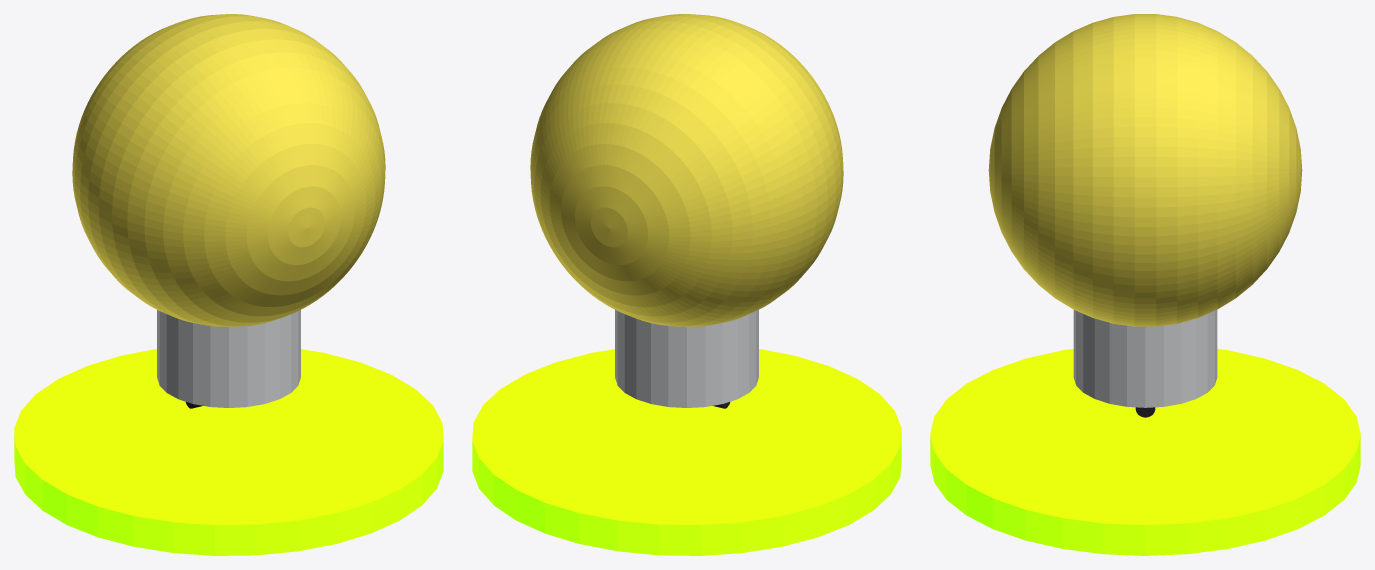
File: tech_light_bulb.glb
The picture shows the model from 3 angles, left to right: view 1: azimuth 30°, elevation 25°; view 2: azimuth 150°, elevation 25°; view 3: azimuth 270°, elevation 25°; orthographic projection.
Visible parts, largest first — view 1: 08_20_Popular_Tech_Light_Bulb_part_01, 08_20_Popular_Tech_Light_Bulb_ROOT_base, 08_20_Popular_Tech_Light_Bulb_part_02; view 2: 08_20_Popular_Tech_Light_Bulb_part_01, 08_20_Popular_Tech_Light_Bulb_ROOT_base, 08_20_Popular_Tech_Light_Bulb_part_02; view 3: 08_20_Popular_Tech_Light_Bulb_part_01, 08_20_Popular_Tech_Light_Bulb_ROOT_base, 08_20_Popular_Tech_Light_Bulb_part_02.
Boxes of the visible parts, x1,y1,x2,y2 form: 08_20_Popular_Tech_Light_Bulb_part_01: (72, 14, 385, 326); 08_20_Popular_Tech_Light_Bulb_ROOT_base: (14, 349, 443, 555); 08_20_Popular_Tech_Light_Bulb_part_02: (157, 310, 300, 407); 08_20_Popular_Tech_Light_Bulb_part_01: (530, 14, 843, 326); 08_20_Popular_Tech_Light_Bulb_ROOT_base: (472, 349, 901, 555); 08_20_Popular_Tech_Light_Bulb_part_02: (615, 310, 758, 407); 08_20_Popular_Tech_Light_Bulb_part_01: (988, 14, 1302, 326); 08_20_Popular_Tech_Light_Bulb_ROOT_base: (930, 349, 1360, 555); 08_20_Popular_Tech_Light_Bulb_part_02: (1073, 310, 1217, 407).
Bounding box in the file's own units: 0.76 × 0.85 × 0.76.
